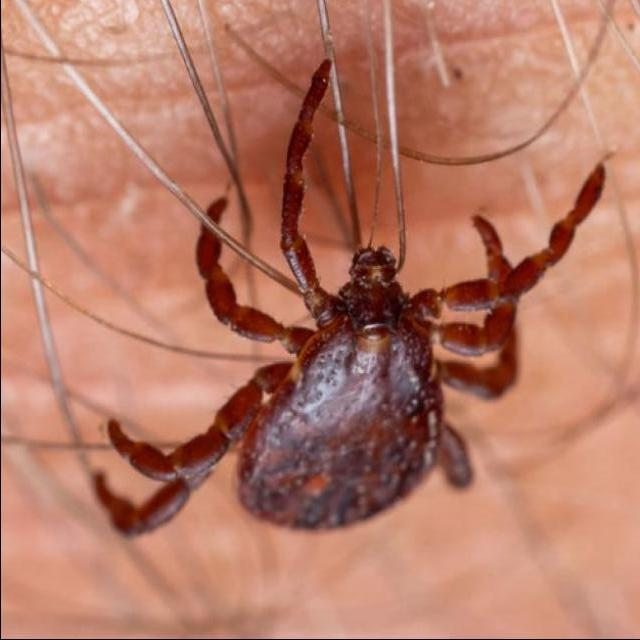Rhipicephalus Sanguineus-M: (89, 57, 605, 538)
